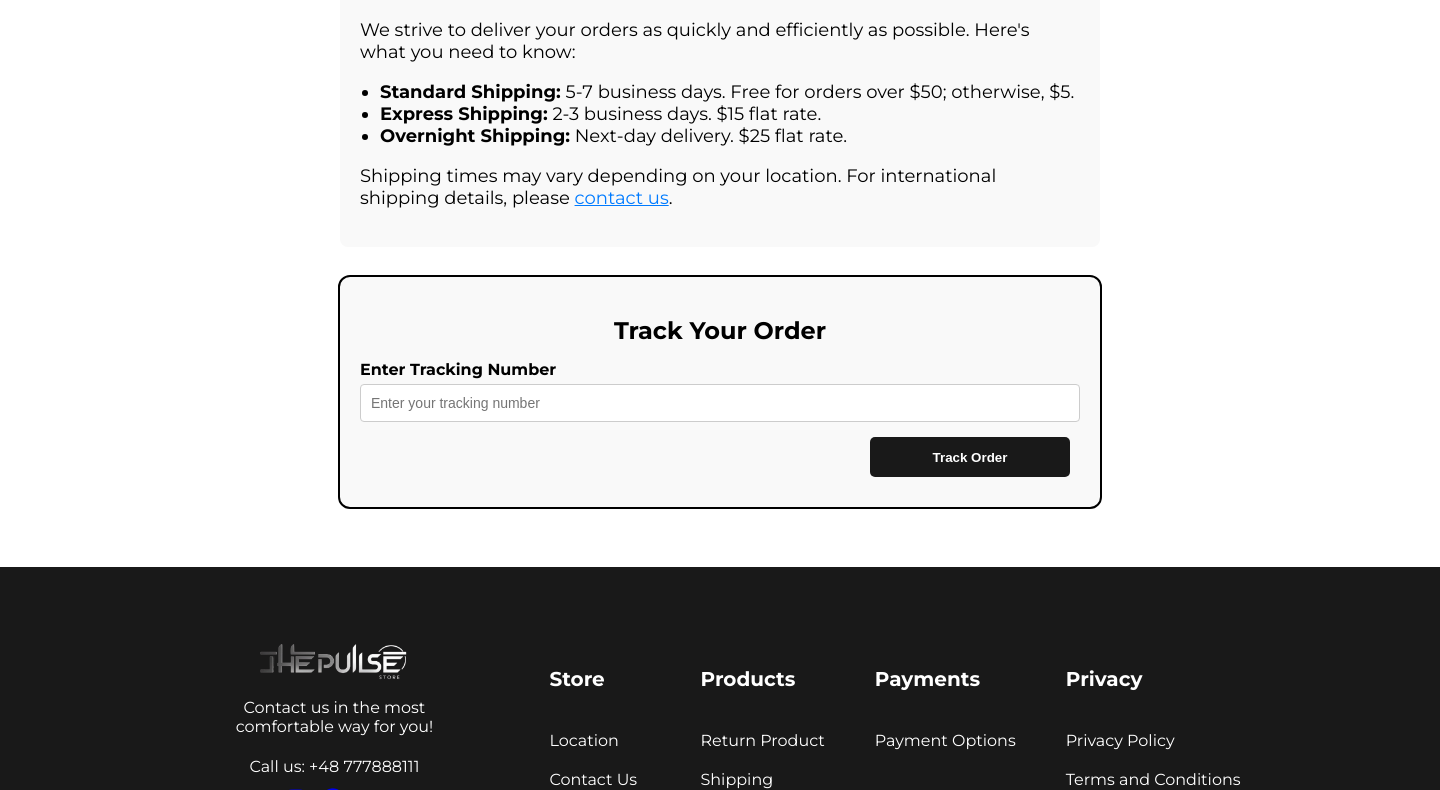
Test: ShippingPage Component › displays an error when tracking number is too long
(page scrolled)
Type "12345678901" into the field labelled "Enter Tracking Number". click: (720, 403)
box: [360, 384, 1080, 422]
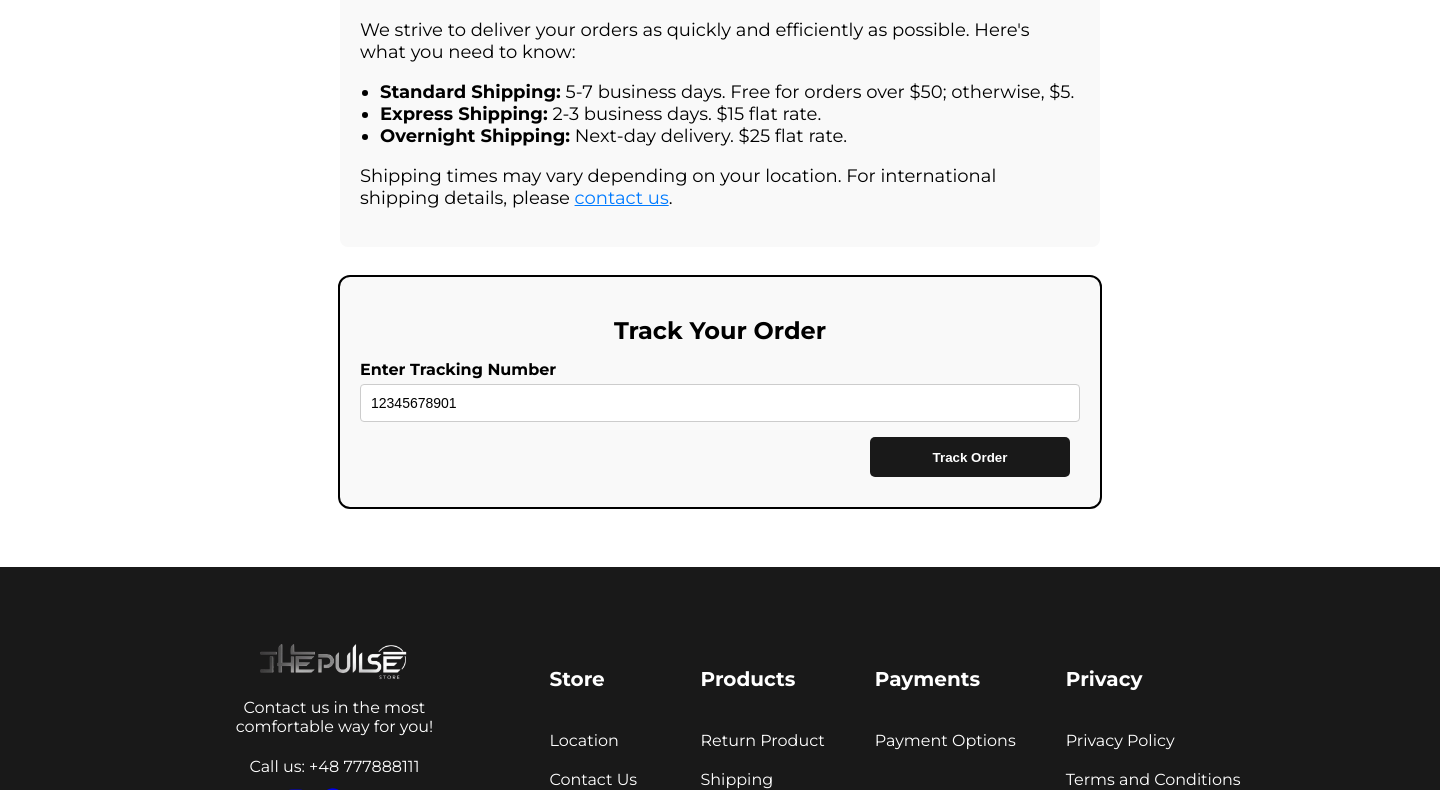
Click the button "Track Order". click: (970, 457)
box: [870, 437, 1070, 477]
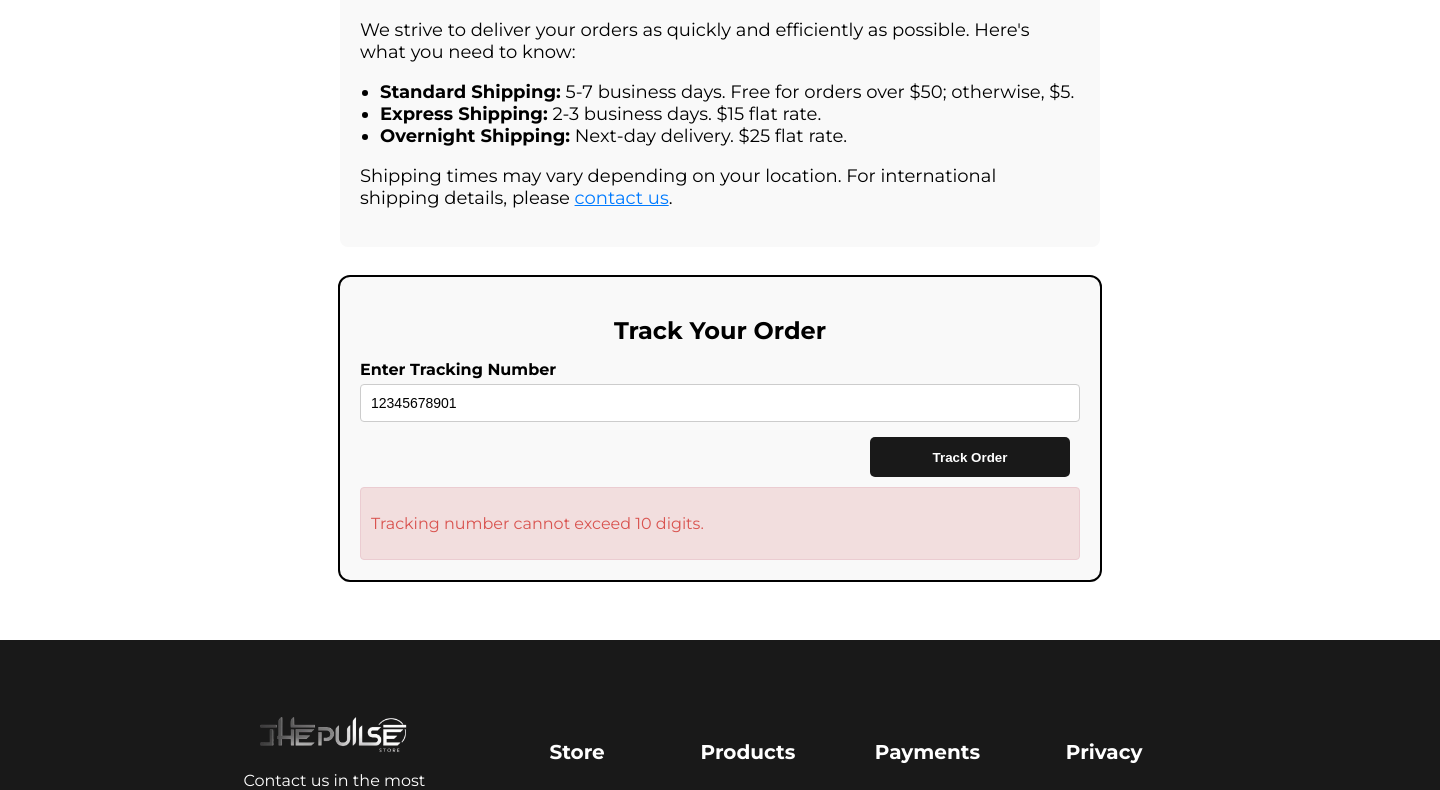
Check: the text "Tracking number cannot exceed 10 digits." is shown, box [371, 514, 704, 533]
